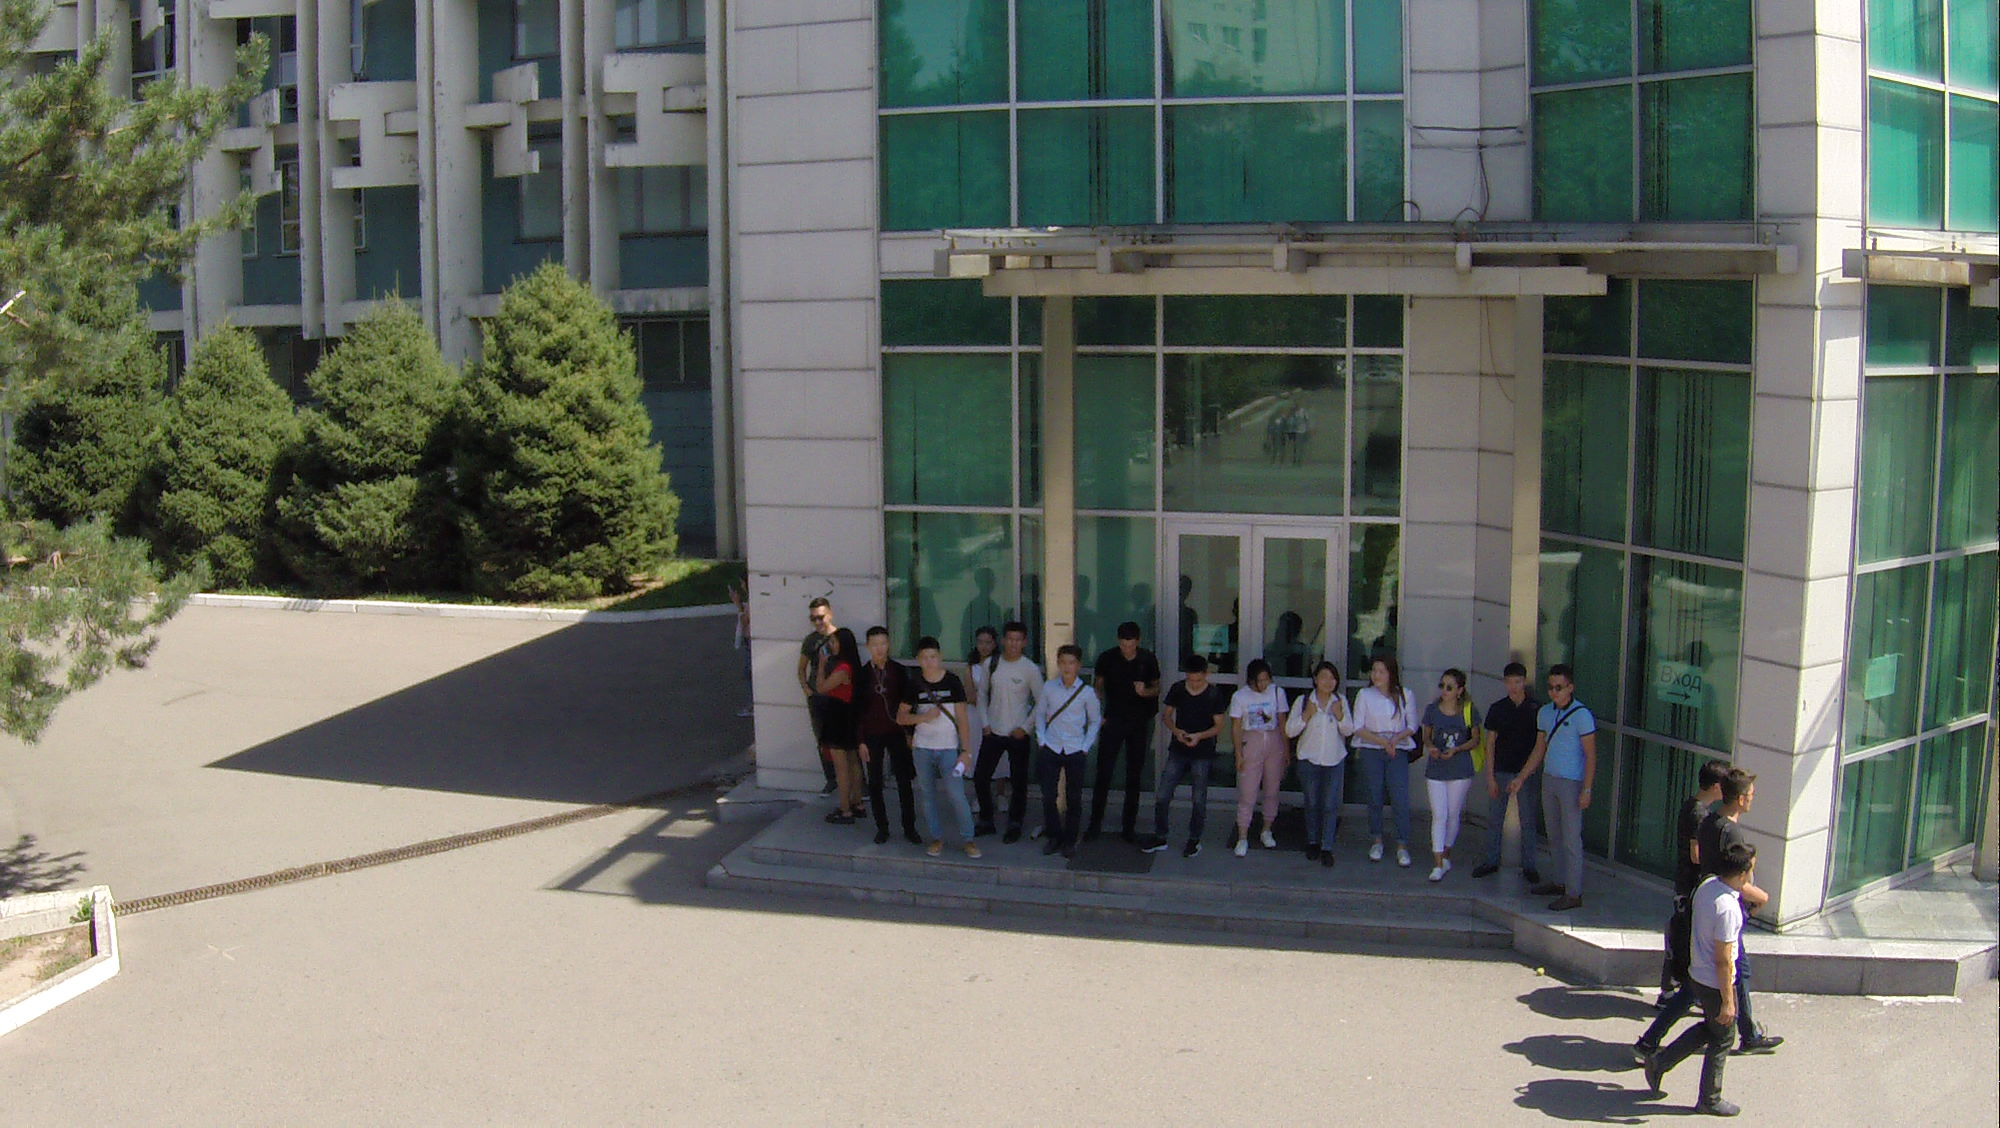person: (1645, 835, 1757, 1111), (902, 629, 990, 869), (1145, 649, 1226, 871), (1539, 657, 1606, 916), (1088, 614, 1161, 850), (1473, 652, 1544, 889), (1356, 659, 1433, 876), (855, 624, 922, 851), (1032, 644, 1096, 866), (1294, 663, 1363, 867), (983, 605, 1040, 849), (1223, 651, 1287, 861), (819, 630, 878, 837), (1423, 669, 1476, 892), (787, 594, 839, 703), (1706, 758, 1760, 850), (967, 622, 997, 682)
